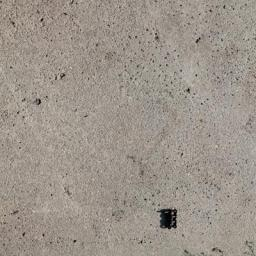FOD: (156, 207, 182, 233)
